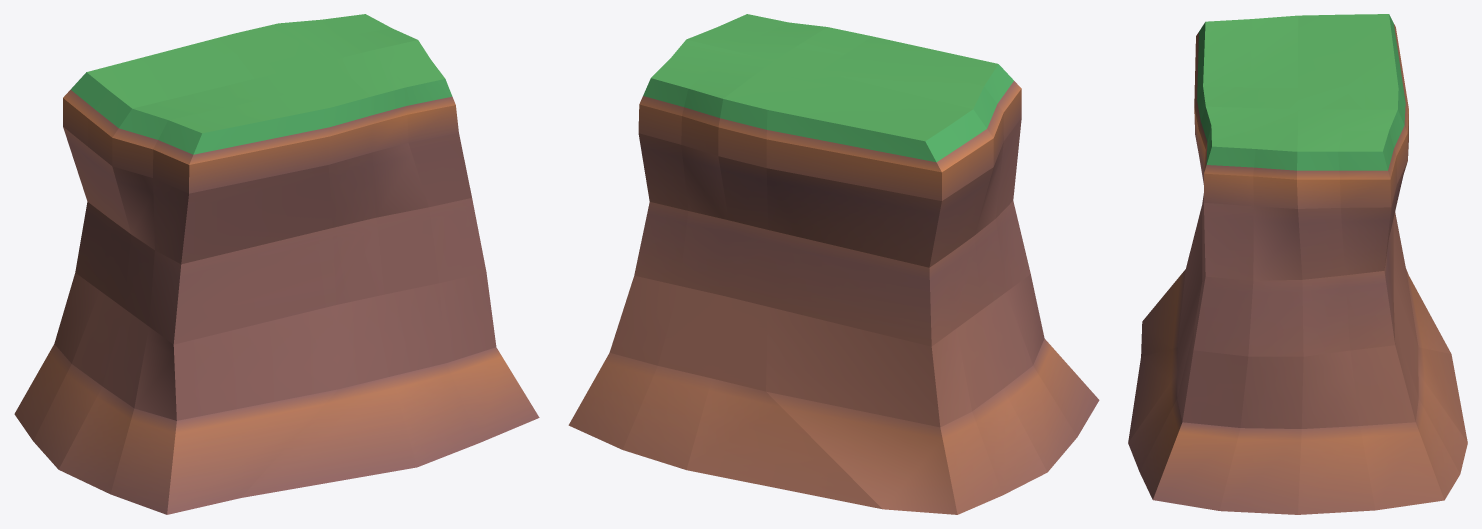
File: Cliff09.fbx
3 renders of one model, left to right at view 1: azimuth 30°, elevation 25°; view 2: azimuth 150°, elevation 25°; view 3: azimuth 270°, elevation 25°, orthographic. The views are drawn at different scales.
Parts seen in each view (by area): view 1: Cliff09; view 2: Cliff09; view 3: Cliff09.
Boxes of the visible parts, bbox=[...] form: Cliff09: bbox=[14, 14, 539, 514]; Cliff09: bbox=[568, 14, 1099, 514]; Cliff09: bbox=[1128, 14, 1467, 514].
Bounding box in the file's own units: 740 × 584 × 530.
